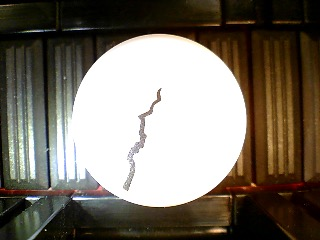CRACK: (71, 33, 247, 208)
